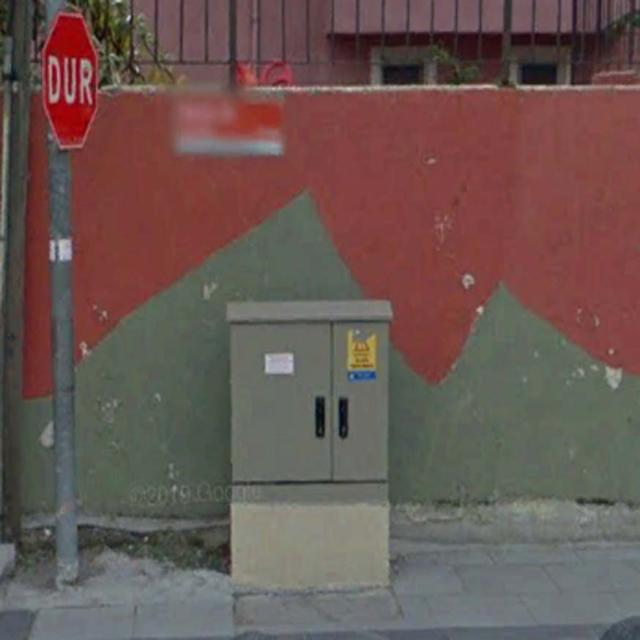dur: (44, 12, 96, 148)
